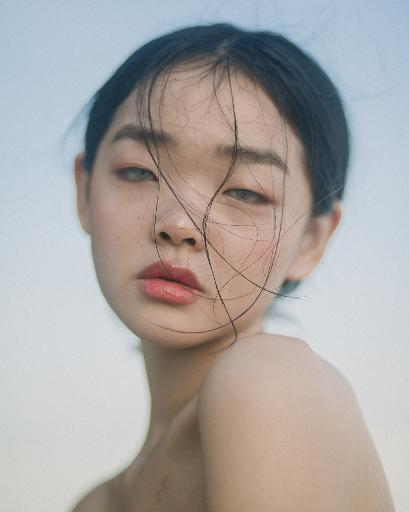left_eye: (222, 187, 276, 209)
left_lip_corner: (194, 285, 208, 303)
right_eye: (115, 166, 157, 189)
right_lip_corner: (133, 271, 147, 291)
